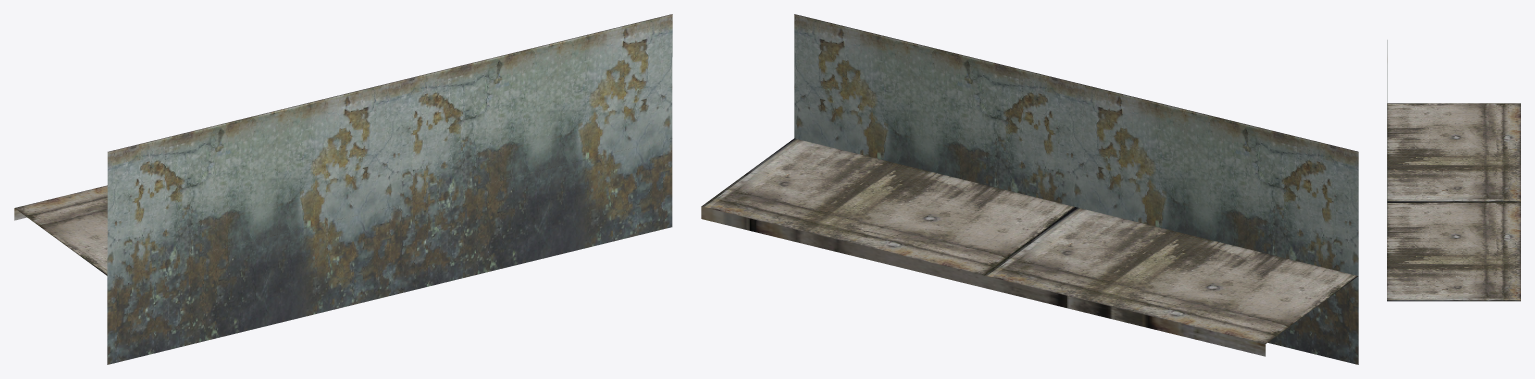
File: Trottoir_02.fbx
The picture shows the model from 3 angles, left to right: view 1: azimuth 30°, elevation 25°; view 2: azimuth 150°, elevation 25°; view 3: azimuth 270°, elevation 25°; orthographic projection. The views are drawn at different scales.
Visible parts, largest first — view 1: Trottoir_02; view 2: Trottoir_02; view 3: Trottoir_02.
Part boxes in pixels (left/top/right/bottom): Trottoir_02: left=14, top=14, right=672, bottom=364; Trottoir_02: left=701, top=14, right=1358, bottom=364; Trottoir_02: left=1387, top=40, right=1520, bottom=301.
Bounding box in the file's own units: 700 × 253 × 200.
